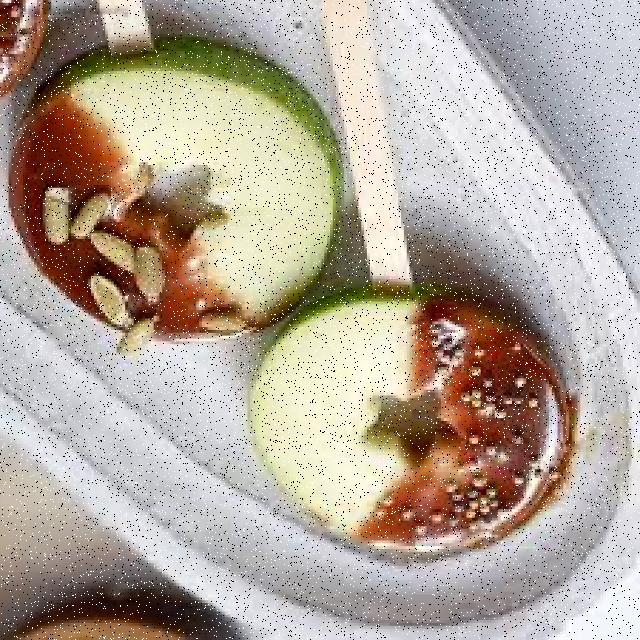Apple: (115, 34, 354, 306), (244, 304, 427, 544)
